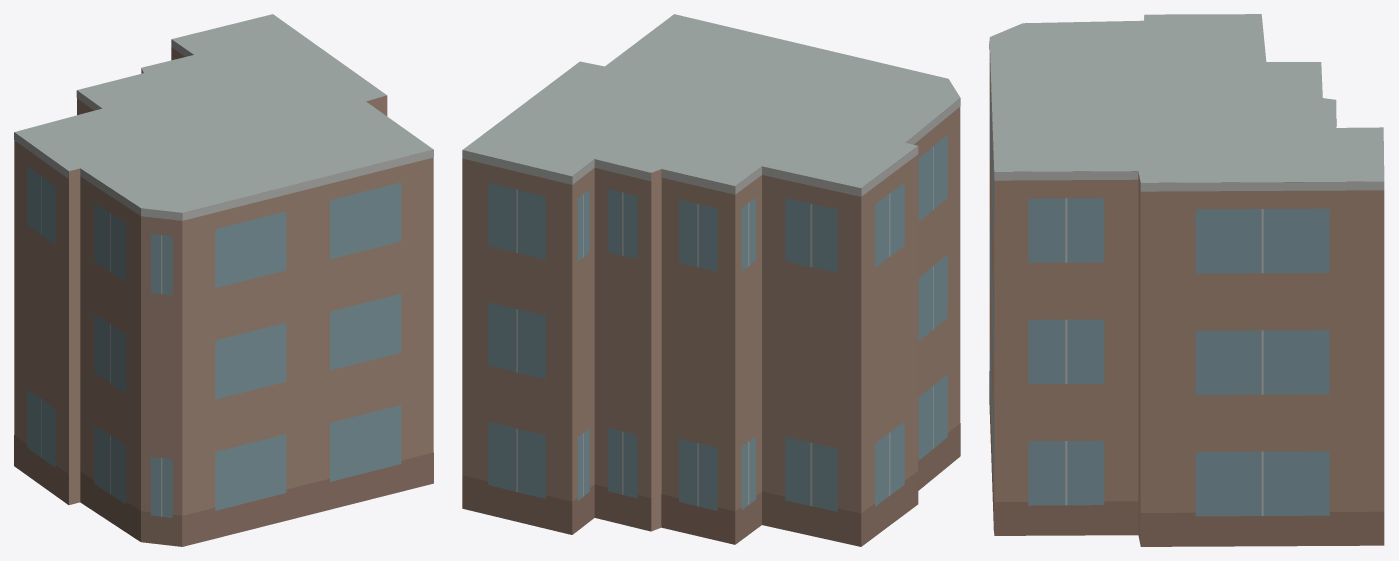
The model's file is survey-upis-32512380.glb.
3 renders of one model, left to right at view 1: azimuth 30°, elevation 25°; view 2: azimuth 150°, elevation 25°; view 3: azimuth 270°, elevation 25°, orthographic. The views are drawn at different scales.
Visible parts, largest first — view 1: survey-upis-32512380.tmp; view 2: survey-upis-32512380.tmp; view 3: survey-upis-32512380.tmp.
Boxes of the visible parts, left/top/right/bottom form: survey-upis-32512380.tmp: left=14, top=14, right=433, bottom=546; survey-upis-32512380.tmp: left=462, top=14, right=960, bottom=546; survey-upis-32512380.tmp: left=989, top=14, right=1384, bottom=546.
Size of the model in its own units: 10.16 by 10.2 by 10.04.
